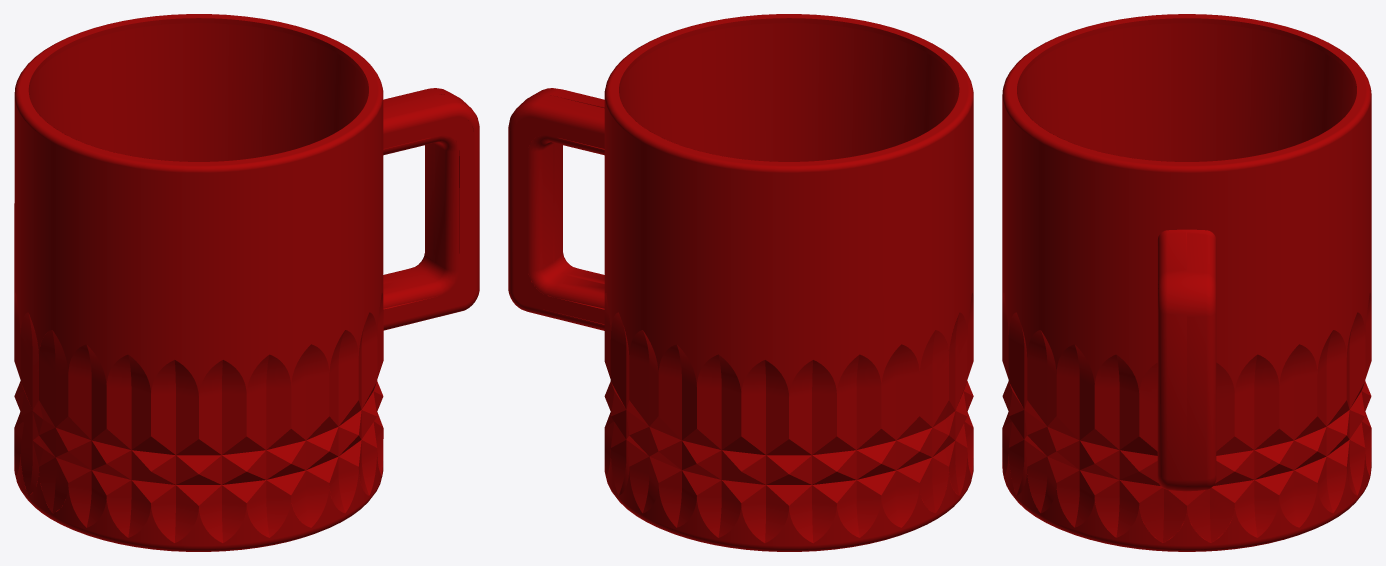
File: CM-MUG047B.glb
3 renders of one model, left to right at view 1: azimuth 30°, elevation 25°; view 2: azimuth 150°, elevation 25°; view 3: azimuth 270°, elevation 25°, orthographic.
Size of the model in its own units: 0.085 by 0.073 by 0.063.
